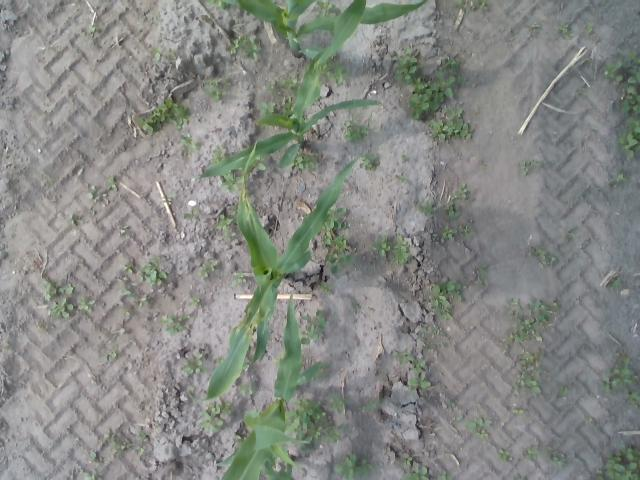Maize: (188, 140, 362, 404), (197, 0, 382, 178), (215, 292, 323, 480), (227, 0, 428, 59)
Weeds: (392, 46, 473, 140), (606, 53, 639, 156), (502, 297, 560, 354), (290, 398, 345, 445), (136, 96, 190, 134), (602, 356, 640, 406), (595, 445, 640, 480), (424, 281, 464, 320), (114, 275, 150, 316), (322, 233, 354, 279), (514, 350, 543, 393), (43, 278, 74, 318), (199, 401, 233, 436), (86, 175, 120, 209), (334, 454, 374, 480), (138, 253, 168, 286), (227, 34, 260, 61), (300, 309, 324, 345), (392, 348, 424, 374), (202, 75, 232, 102), (445, 183, 468, 218), (525, 244, 555, 267), (416, 327, 446, 349), (161, 312, 189, 333), (464, 417, 492, 438), (342, 118, 366, 142), (322, 63, 347, 86), (392, 232, 409, 265), (180, 352, 202, 376), (105, 428, 127, 452), (326, 392, 348, 414), (414, 200, 440, 218), (544, 446, 564, 468), (327, 208, 346, 231), (371, 235, 391, 256), (402, 466, 432, 480), (278, 70, 298, 90), (198, 258, 218, 278), (409, 374, 431, 392), (74, 296, 96, 314), (293, 154, 317, 170), (219, 174, 243, 190), (360, 152, 380, 171), (520, 160, 542, 176), (456, 0, 488, 11), (182, 135, 200, 153), (100, 344, 118, 362), (278, 95, 293, 116), (560, 19, 576, 38), (208, 146, 226, 162), (230, 270, 246, 288), (215, 214, 232, 230), (315, 1, 333, 16), (442, 224, 457, 241), (522, 446, 540, 460), (474, 262, 486, 282), (68, 212, 84, 227), (362, 399, 382, 411), (238, 384, 255, 398), (82, 469, 102, 480), (608, 174, 626, 186), (258, 102, 276, 114), (394, 173, 410, 186), (183, 210, 200, 222), (36, 320, 54, 331), (530, 21, 543, 36), (254, 155, 266, 171), (151, 44, 163, 59), (556, 385, 568, 400), (130, 444, 146, 455), (222, 231, 236, 243), (445, 395, 456, 410), (188, 296, 204, 306), (396, 458, 413, 467), (423, 342, 444, 349), (164, 48, 176, 60), (44, 176, 56, 188), (264, 78, 275, 91), (438, 470, 452, 480), (206, 0, 229, 6), (458, 226, 469, 238), (497, 449, 509, 460), (609, 278, 621, 289), (585, 21, 595, 34), (123, 260, 133, 273), (320, 282, 330, 294), (116, 226, 128, 236), (567, 228, 578, 238), (114, 328, 126, 337), (228, 202, 237, 214), (351, 300, 361, 310), (508, 28, 518, 38), (512, 473, 526, 480), (431, 326, 443, 334), (136, 432, 148, 440), (162, 194, 172, 203), (577, 83, 585, 94), (4, 339, 12, 350), (510, 409, 525, 414), (90, 452, 98, 460), (88, 25, 96, 32), (152, 12, 159, 20), (402, 154, 408, 162), (454, 416, 463, 420), (588, 417, 594, 422)
